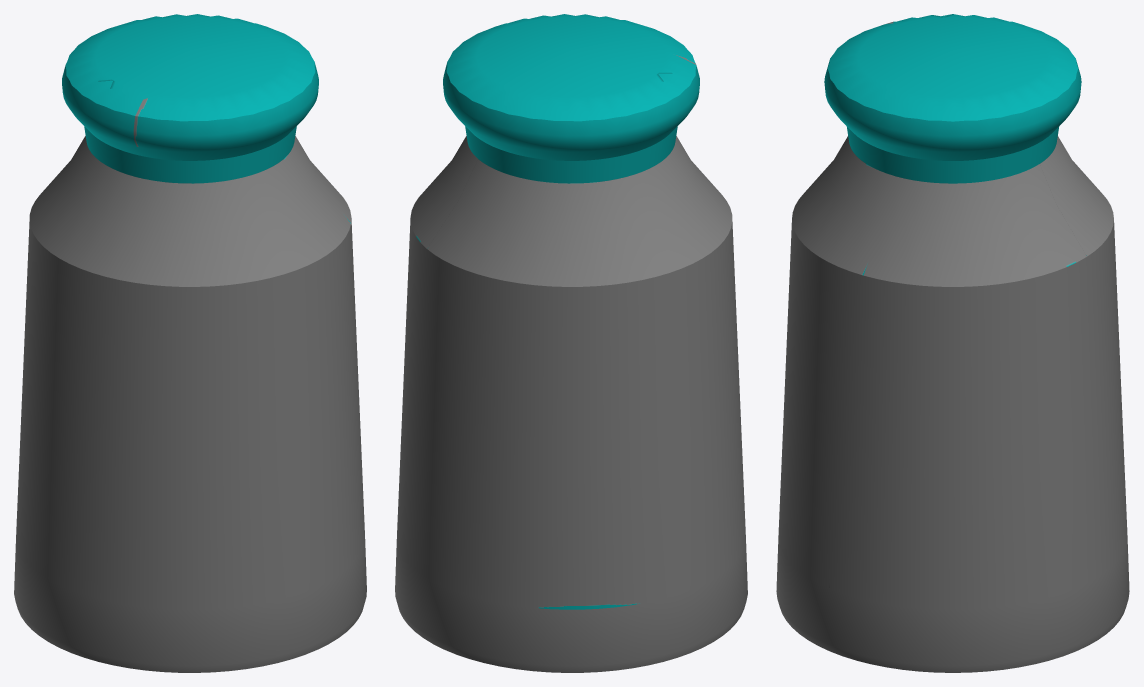
File: player.obj
3 views of the same model, side by side, from view 1: azimuth 30°, elevation 25°; view 2: azimuth 150°, elevation 25°; view 3: azimuth 270°, elevation 25° (orthographic).
Parts seen in each view (by area): view 1: Cylinder; view 2: Cylinder; view 3: Cylinder.
Boxes of the visible parts, x1,y1,x2,y2 form: Cylinder: (14,14,366,672); Cylinder: (395,14,747,672); Cylinder: (776,14,1129,672).
Bounding box in the file's own units: 1.68 × 2.88 × 1.68.
1 material, 1 textured.
